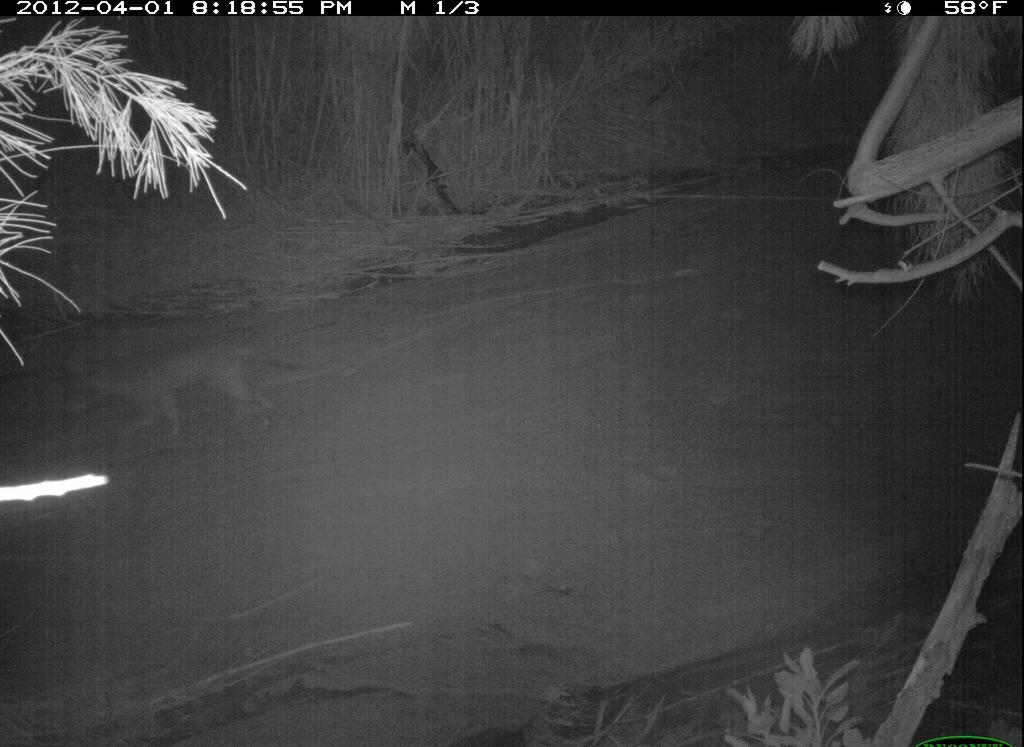coyote: (53, 333, 312, 457)
